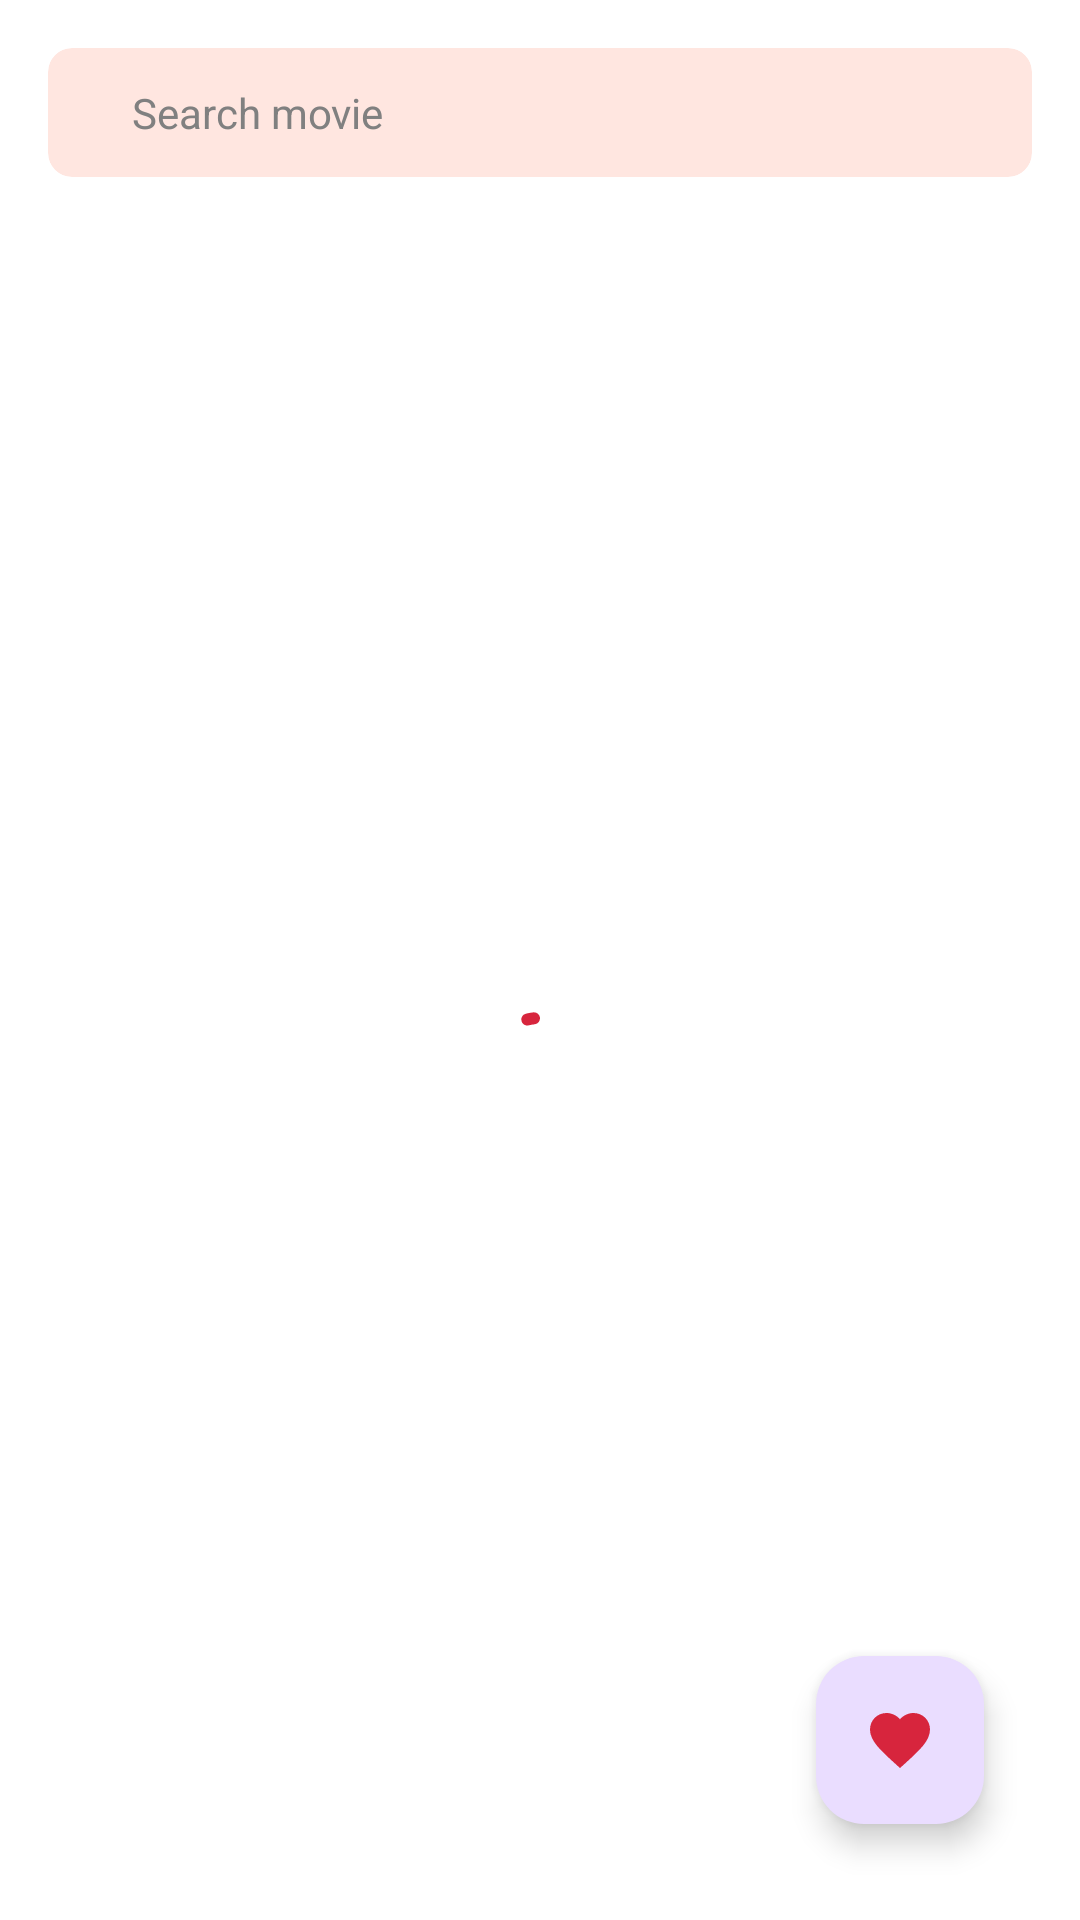

Icon click points for this 1080 × 1920 phone screenshot, format point (x, y):
favorite: point (900, 1740)
